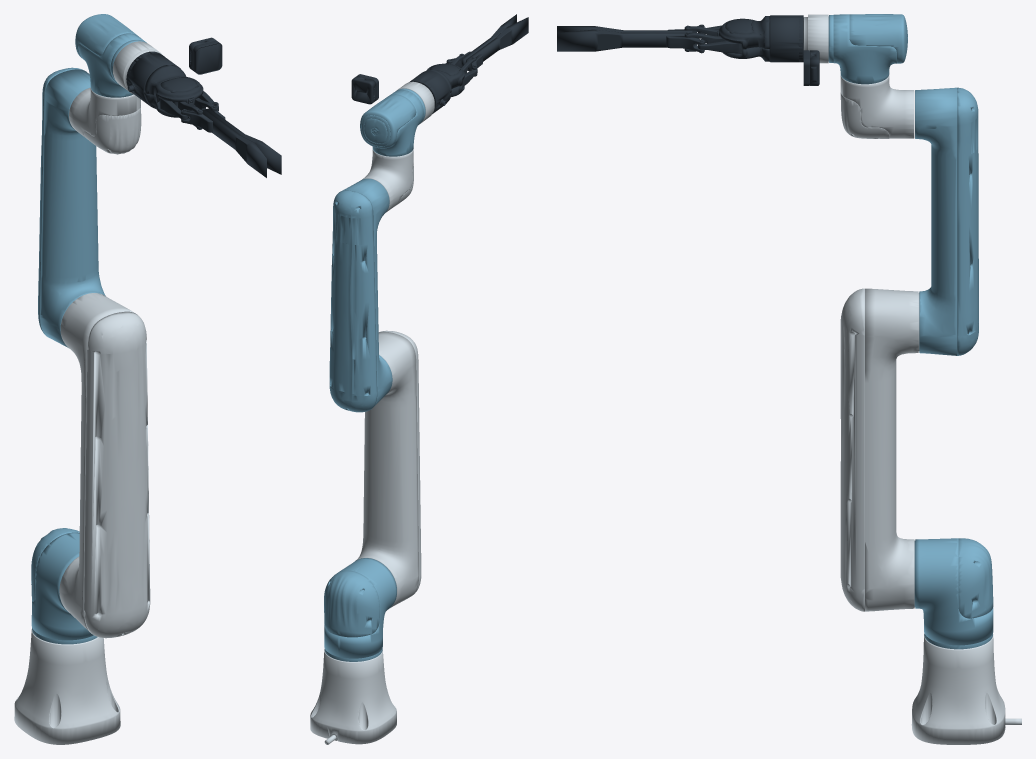
The model's file is nova5_bread.glb.
The picture shows the model from 3 angles, left to right: view 1: azimuth 30°, elevation 25°; view 2: azimuth 150°, elevation 25°; view 3: azimuth 270°, elevation 25°; orthographic projection. The views are drawn at different scales.
Parts seen in each view (by area): view 1: nova5_bread_rig / Link2 visual, nova5_bread_rig / Link3 visual, nova5_bread_rig / base_link visual, nova5_bread_rig / Link1 visual, nova5_bread_rig / Link4 visual, nova5_bread_rig / Link5 visual, nova5_bread_rig / gripper_base_link visual, nova5_bread_rig / gripper_l_tong visual, nova5_bread_rig / wrist_camera_link visual, nova5_bread_rig / Link6 visual, nova5_bread_rig / gripper_r_tong visual; view 2: nova5_bread_rig / Link2 visual, nova5_bread_rig / Link3 visual, nova5_bread_rig / base_link visual, nova5_bread_rig / Link1 visual, nova5_bread_rig / Link5 visual, nova5_bread_rig / Link4 visual, nova5_bread_rig / gripper_base_link visual, nova5_bread_rig / gripper_l_tong visual, nova5_bread_rig / wrist_camera_link visual, nova5_bread_rig / Link6 visual; view 3: nova5_bread_rig / Link2 visual, nova5_bread_rig / Link3 visual, nova5_bread_rig / base_link visual, nova5_bread_rig / Link1 visual, nova5_bread_rig / Link5 visual, nova5_bread_rig / Link4 visual, nova5_bread_rig / gripper_base_link visual, nova5_bread_rig / gripper_r_tong visual, nova5_bread_rig / Link6 visual.
Part boxes in pixels (bbox=[...]): nova5_bread_rig / Link2 visual: bbox=[59, 293, 150, 638]; nova5_bread_rig / Link3 visual: bbox=[38, 67, 105, 348]; nova5_bread_rig / base_link visual: bbox=[14, 629, 120, 744]; nova5_bread_rig / Link1 visual: bbox=[31, 528, 97, 644]; nova5_bread_rig / Link4 visual: bbox=[69, 87, 141, 154]; nova5_bread_rig / Link5 visual: bbox=[75, 14, 146, 97]; nova5_bread_rig / gripper_base_link visual: bbox=[126, 51, 203, 117]; nova5_bread_rig / gripper_l_tong visual: bbox=[202, 109, 266, 177]; nova5_bread_rig / wrist_camera_link visual: bbox=[189, 37, 222, 74]; nova5_bread_rig / Link6 visual: bbox=[113, 41, 162, 94]; nova5_bread_rig / gripper_r_tong visual: bbox=[205, 108, 281, 174]; nova5_bread_rig / Link2 visual: bbox=[355, 330, 421, 607]; nova5_bread_rig / Link3 visual: bbox=[329, 178, 392, 412]; nova5_bread_rig / base_link visual: bbox=[310, 649, 396, 744]; nova5_bread_rig / Link1 visual: bbox=[324, 558, 396, 661]; nova5_bread_rig / Link5 visual: bbox=[360, 88, 425, 156]; nova5_bread_rig / Link4 visual: bbox=[362, 149, 413, 212]; nova5_bread_rig / gripper_base_link visual: bbox=[409, 63, 464, 113]; nova5_bread_rig / gripper_l_tong visual: bbox=[466, 17, 528, 71]; nova5_bread_rig / wrist_camera_link visual: bbox=[351, 74, 378, 104]; nova5_bread_rig / Link6 visual: bbox=[396, 81, 434, 123]; nova5_bread_rig / Link2 visual: bbox=[840, 288, 919, 611]; nova5_bread_rig / Link3 visual: bbox=[915, 87, 978, 355]; nova5_bread_rig / base_link visual: bbox=[911, 634, 1021, 744]; nova5_bread_rig / Link1 visual: bbox=[914, 538, 993, 649]; nova5_bread_rig / Link5 visual: bbox=[828, 14, 907, 84]; nova5_bread_rig / Link4 visual: bbox=[840, 75, 914, 138]; nova5_bread_rig / gripper_base_link visual: bbox=[717, 15, 803, 62]; nova5_bread_rig / gripper_r_tong visual: bbox=[557, 29, 691, 51]; nova5_bread_rig / Link6 visual: bbox=[803, 14, 828, 63].
Bounding box in the file's own units: 0.1886 × 1.13 × 0.6691.
